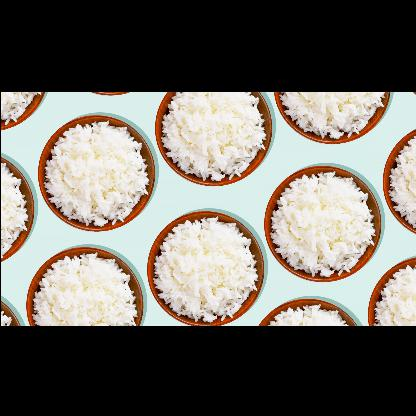banana: (153, 216, 257, 322), (44, 120, 148, 226), (271, 172, 375, 276), (160, 92, 265, 180), (32, 252, 136, 326), (278, 92, 384, 139), (373, 262, 415, 326), (0, 161, 28, 257), (387, 135, 415, 229), (266, 304, 350, 326), (1, 92, 42, 124), (1, 309, 11, 325)
